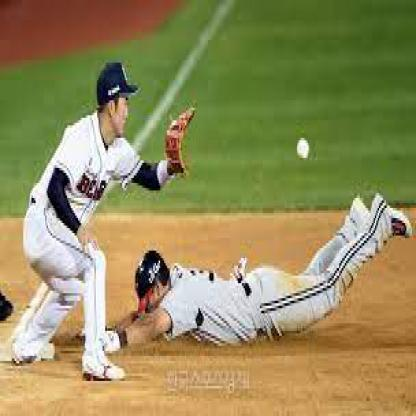Fall_Down: (71, 187, 414, 355)
